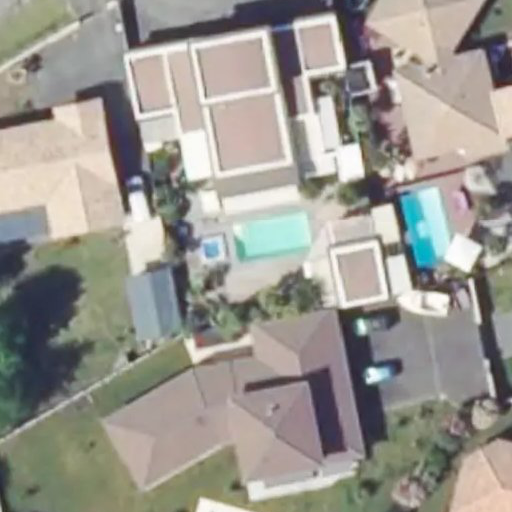pool: (400, 189, 452, 267), (235, 214, 314, 260)
